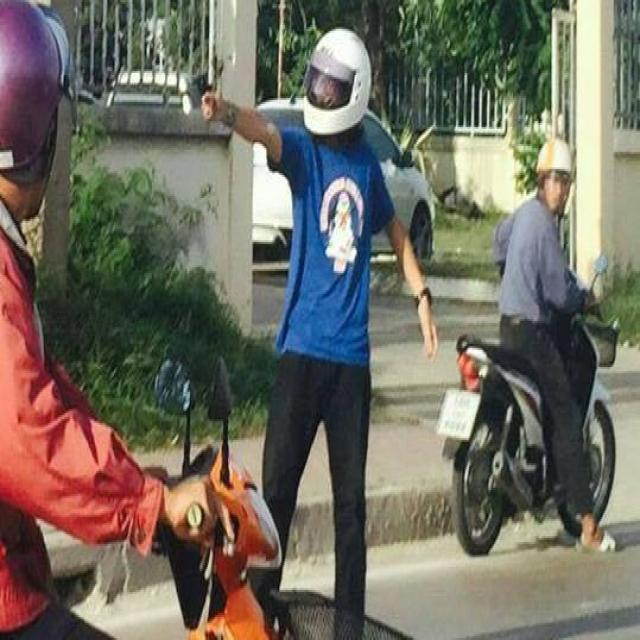helmet: (300, 27, 374, 140), (534, 134, 575, 212)
